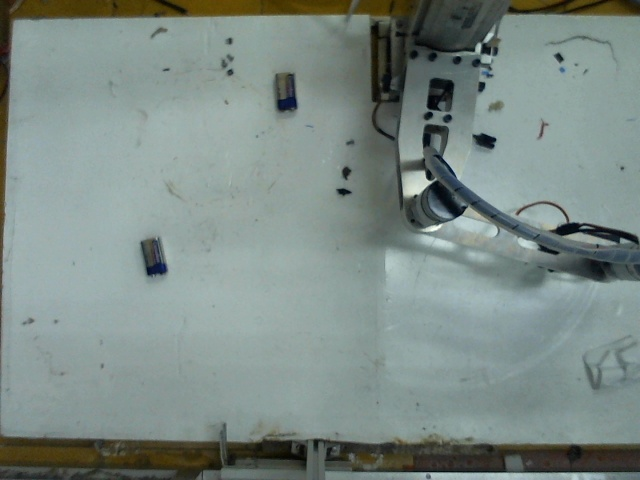battery: (133, 231, 172, 280), (268, 64, 301, 109)
